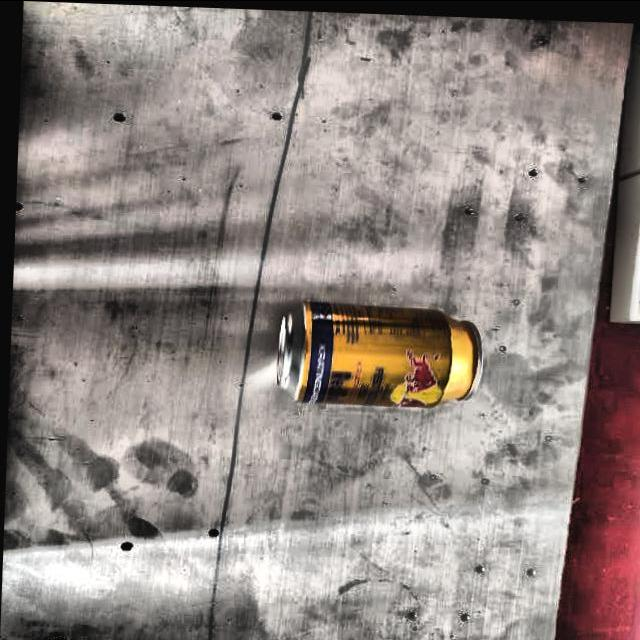Aluminum Can: (256, 293, 491, 414)
